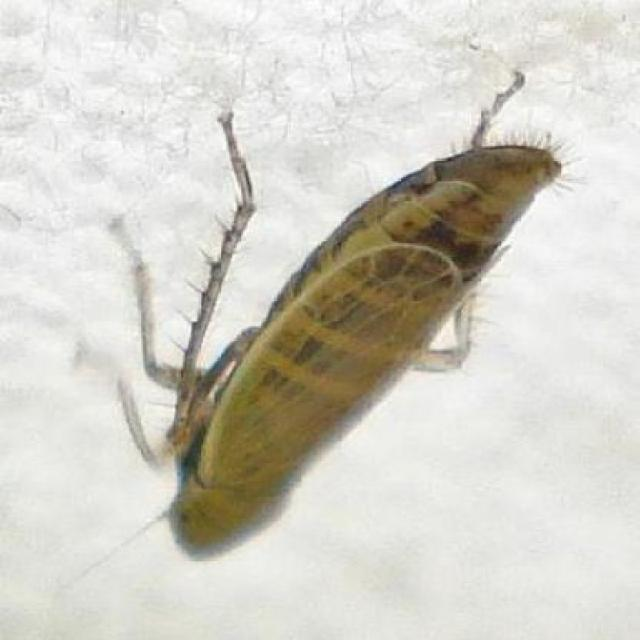green-leafhopper: (161, 111, 547, 560)
